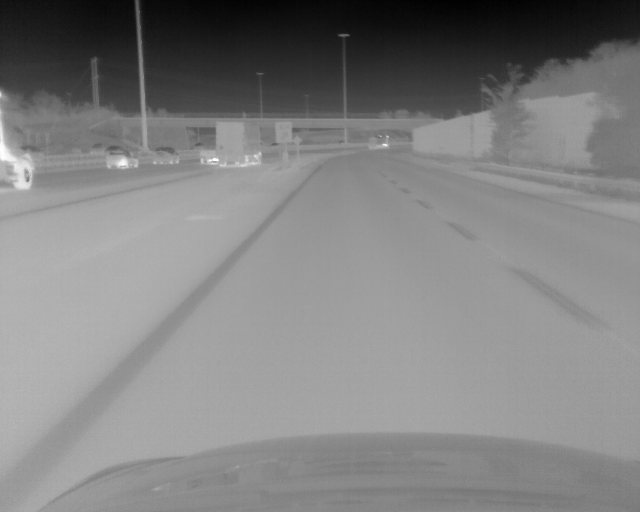car: (1, 89, 38, 191), (215, 121, 264, 168), (106, 149, 139, 169), (155, 147, 181, 165), (199, 147, 218, 164), (367, 135, 390, 149)
